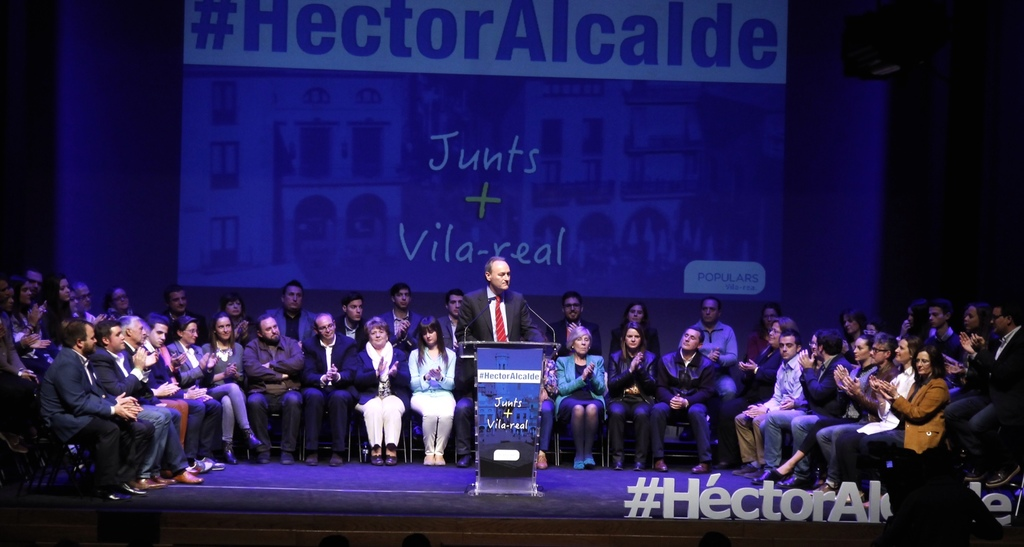Person: (0, 256, 1024, 546)
